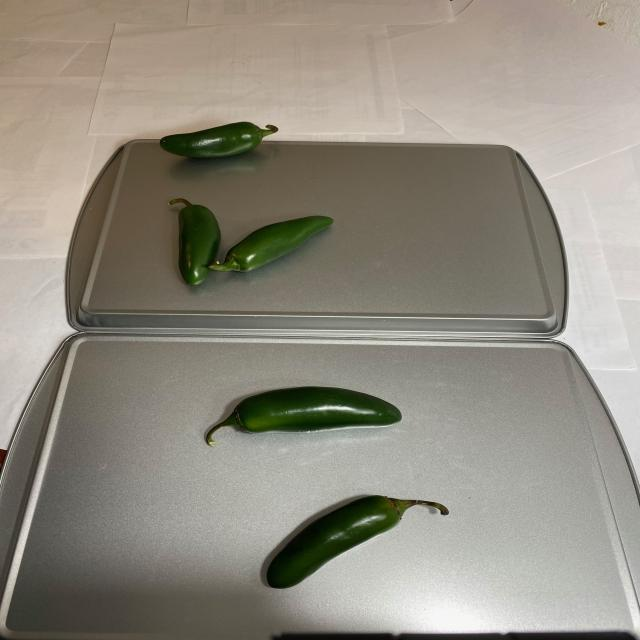chilli: (197, 382, 451, 583), (146, 119, 342, 308)
